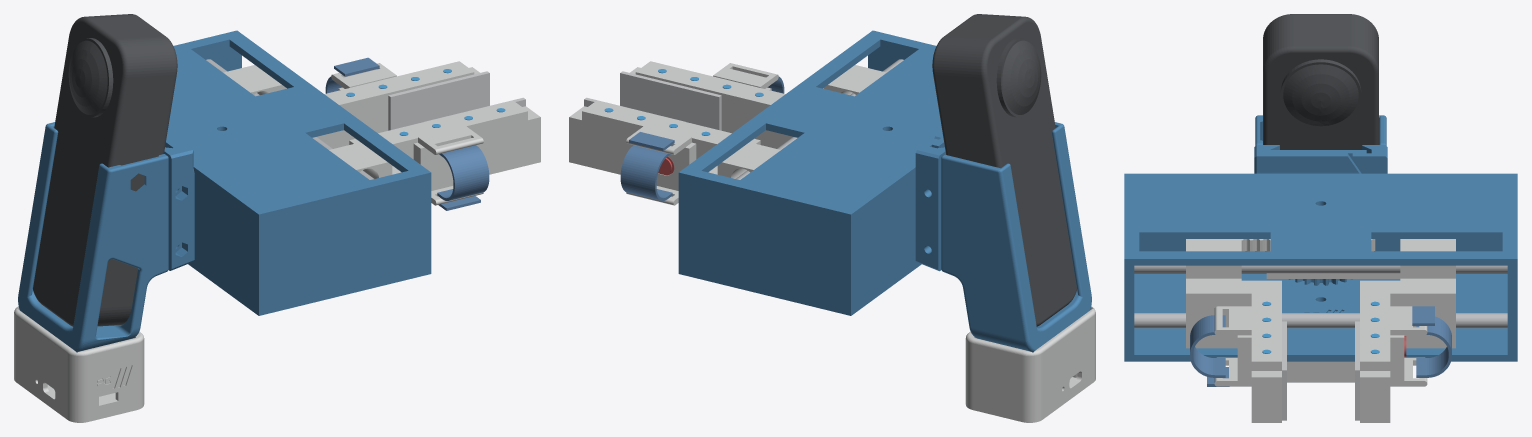
File: parallel_left.glb
3 renders of one model, left to right at view 1: azimuth 30°, elevation 25°; view 2: azimuth 150°, elevation 25°; view 3: azimuth 270°, elevation 25°, orthographic.
Visible parts, largest first — view 1: parallel_base_dc, insta360_x5_envelope, x5_lite_frame, pg_pod, parallel_finger_right_sleeve, parallel_finger_left_button, parallel_pad_left, parallel_strap_right, parallel_carriage_right, parallel_carriage_left, pg_pod_lid, parallel_strap_left; view 2: parallel_base_dc, insta360_x5_envelope, x5_lite_frame, pg_pod, parallel_finger_left_button, parallel_finger_right_sleeve, parallel_pad_right, chopstick_clip_dc, parallel_strap_left, parallel_carriage_left, parallel_carriage_right, pg_pod_lid; view 3: parallel_base_dc, insta360_x5_envelope, parallel_finger_right_sleeve, parallel_finger_left_button, parallel_rod_bottom, parallel_rod_top, parallel_carriage_left, parallel_carriage_right, parallel_strap_left, parallel_strap_right, pg_pod, chopstick_clip_dc (+3 smaller).
Boxes of the visible parts, x1,y1,x2,y2 form: parallel_base_dc: (164,30,431,315); insta360_x5_envelope: (33,14,177,326); x5_lite_frame: (18,122,168,352); pg_pod: (14,306,144,418); parallel_finger_right_sleeve: (349,100,540,205); parallel_finger_left_button: (286,61,479,148); parallel_pad_left: (388,71,489,130); parallel_strap_right: (437,145,489,210); parallel_carriage_right: (329,142,392,178); parallel_carriage_left: (223,65,286,94); pg_pod_lid: (14,375,144,422); parallel_strap_left: (325,57,379,93); parallel_base_dc: (678,30,944,315); insta360_x5_envelope: (932,14,1076,326); x5_lite_frame: (941,122,1091,352); pg_pod: (965,306,1095,418); parallel_finger_left_button: (569,100,760,205); parallel_finger_right_sleeve: (630,61,823,148); parallel_pad_right: (620,71,721,130); chopstick_clip_dc: (915,138,945,271); parallel_strap_left: (620,132,674,200); parallel_carriage_left: (717,142,780,178); parallel_carriage_right: (823,65,886,94); pg_pod_lid: (965,375,1095,422); parallel_base_dc: (1124,145,1517,361); insta360_x5_envelope: (1263,14,1378,149); parallel_finger_right_sleeve: (1186,278,1281,422); parallel_finger_left_button: (1360,278,1455,422); parallel_rod_bottom: (1134,313,1507,328); parallel_rod_top: (1134,265,1507,273); parallel_carriage_left: (1266,239,1455,278); parallel_carriage_right: (1186,239,1375,278); parallel_strap_left: (1412,306,1451,377); parallel_strap_right: (1190,315,1229,386); pg_pod: (1287,361,1354,377); chopstick_clip_dc: (1352,145,1387,173).
Bounding box in the file's own units: 0.2157 × 0.1583 × 0.156.
